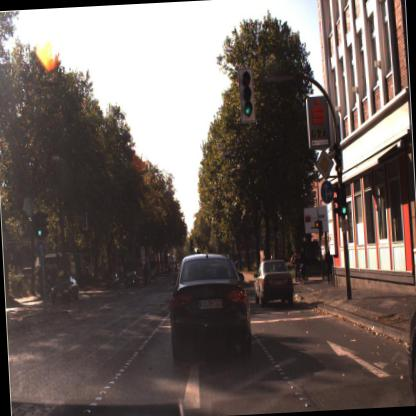mandatory: (318, 182, 336, 206), (32, 240, 48, 262)
other: (314, 144, 333, 180)
